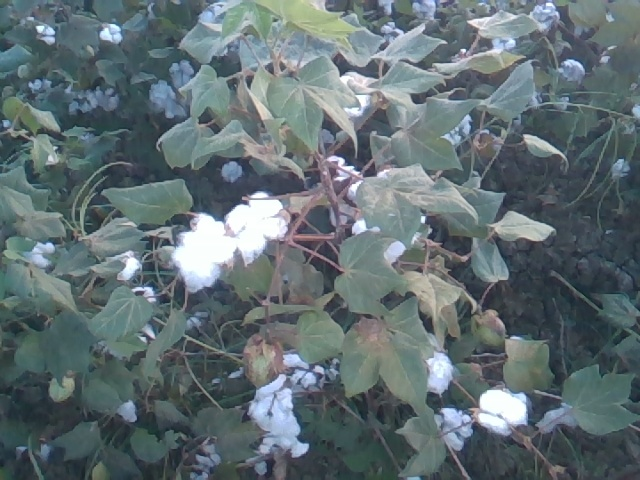cotton: (222, 186, 298, 265), (168, 212, 238, 293), (244, 372, 311, 455), (471, 383, 531, 439), (146, 58, 194, 123), (404, 343, 459, 398), (426, 405, 477, 452), (65, 83, 121, 113), (96, 20, 126, 46), (218, 160, 245, 183), (35, 23, 59, 46), (609, 157, 633, 179)
